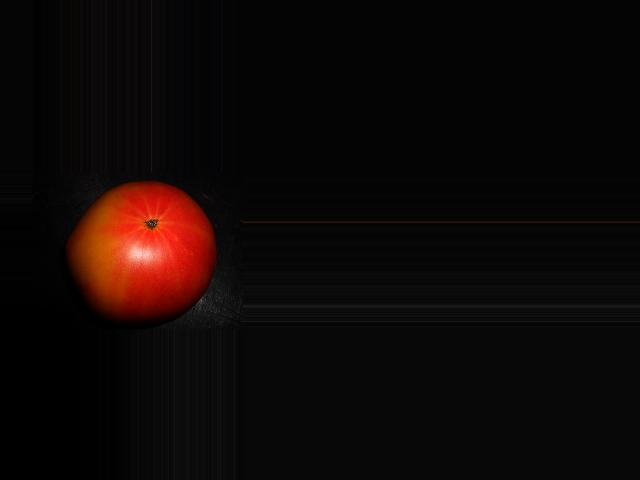tomato: (66, 181, 216, 325)
